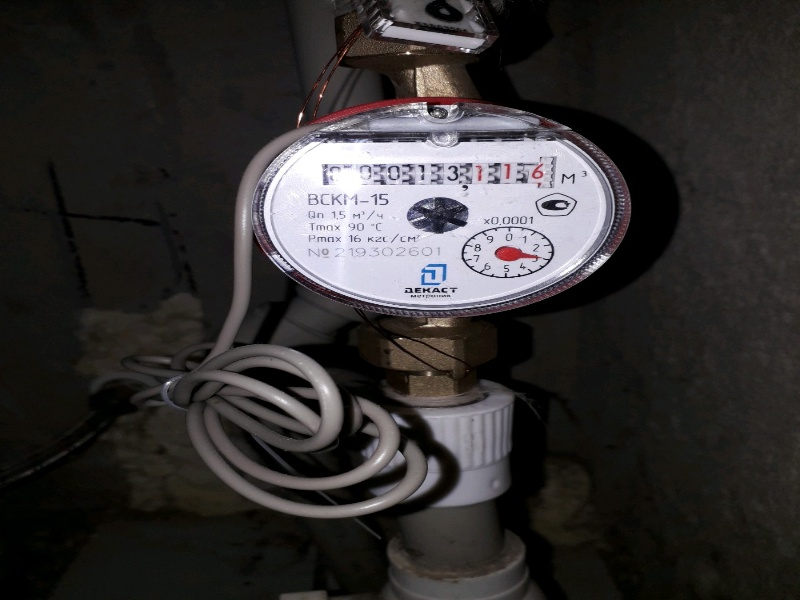meter: (317, 150, 553, 185)
